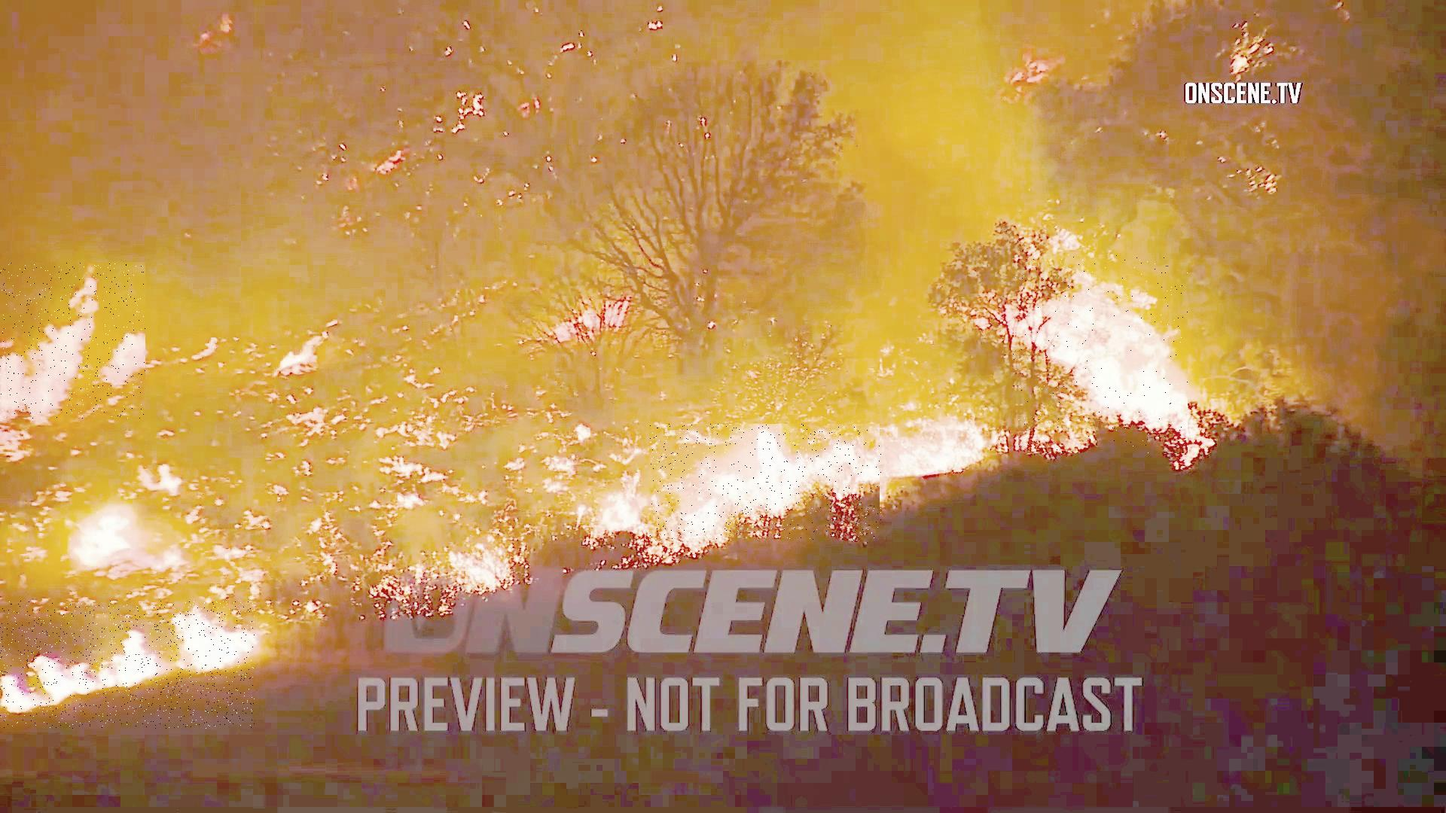fire: (1013, 255, 1188, 453), (0, 601, 255, 729), (650, 424, 882, 541), (0, 262, 145, 419)
